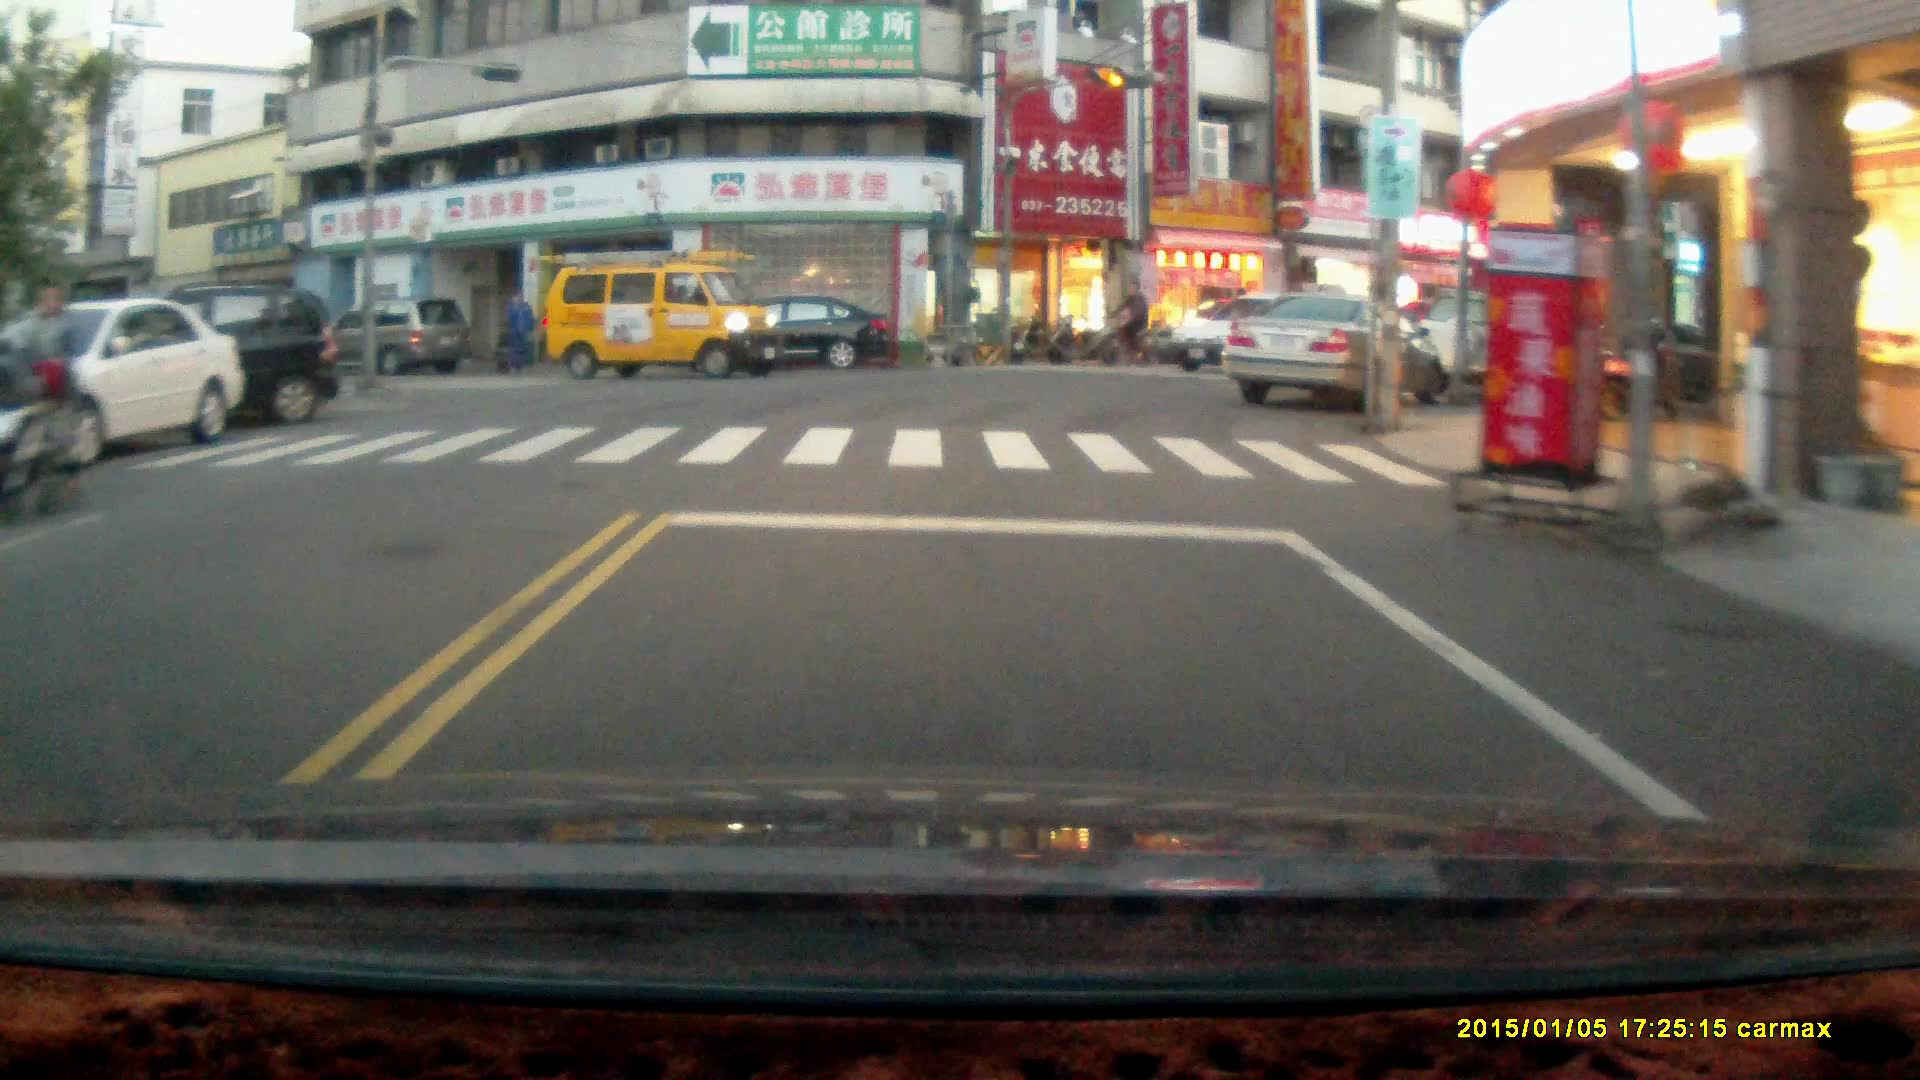pedestrian: (19, 279, 76, 488), (501, 287, 532, 370)
rider: (0, 338, 56, 515), (1088, 275, 1157, 366)
vehicle: (40, 276, 337, 429), (1, 296, 245, 458), (536, 246, 783, 384), (1218, 287, 1446, 406), (1405, 284, 1626, 399), (1155, 286, 1363, 378), (710, 292, 890, 371), (316, 294, 468, 382)
